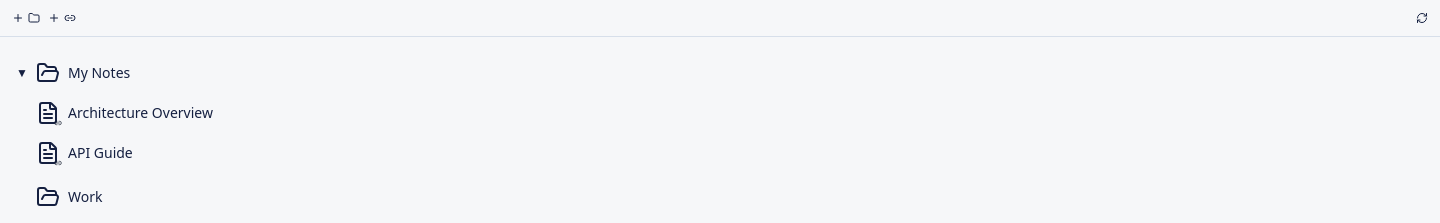
Test: PersonalTree › expand and collapse › collapses folder when clicked and hides children
Expected: the text "Architecture Overview" is shown, x1=68 y1=103 x2=213 y2=122
Click the text "My Notes": [99, 72] box x1=68 y1=63 x2=130 y2=82
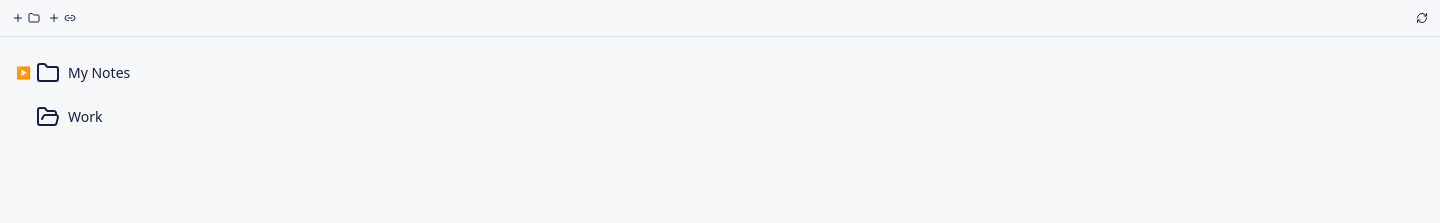
Now the button "Architecture Overview" is gone
Now the button "API Guide" is gone
